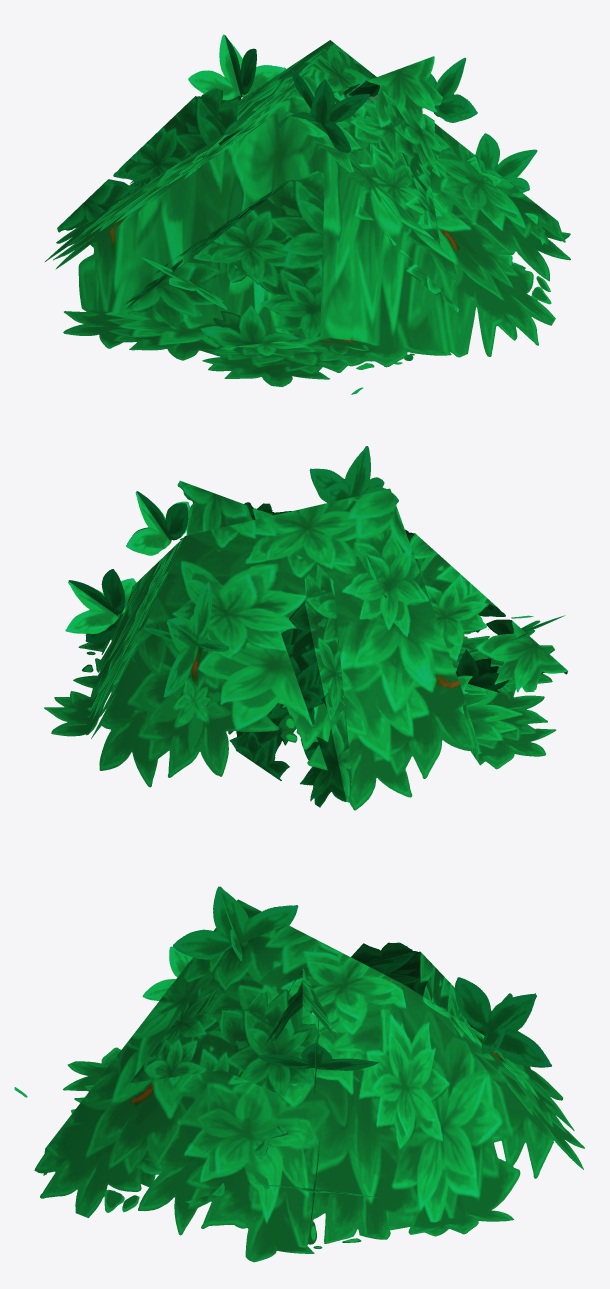
The model's file is 2_Arbusto_Verde_Oscuro_LOD_2.fbx.
3 renders of one model, top to bottom at view 1: azimuth 30°, elevation 25°; view 2: azimuth 150°, elevation 25°; view 3: azimuth 270°, elevation 25°, orthographic. The views are drawn at different scales.
Parts seen in each view (by area): view 1: 2_Arbusto_Verde_Oscuro_LOD_2; view 2: 2_Arbusto_Verde_Oscuro_LOD_2; view 3: 2_Arbusto_Verde_Oscuro_LOD_2.
Boxes of the visible parts, bbox=[...] form: 2_Arbusto_Verde_Oscuro_LOD_2: bbox=[45, 34, 570, 394]; 2_Arbusto_Verde_Oscuro_LOD_2: bbox=[44, 446, 567, 810]; 2_Arbusto_Verde_Oscuro_LOD_2: bbox=[14, 886, 584, 1262].
Bounding box in the file's own units: 354 × 199 × 341.
